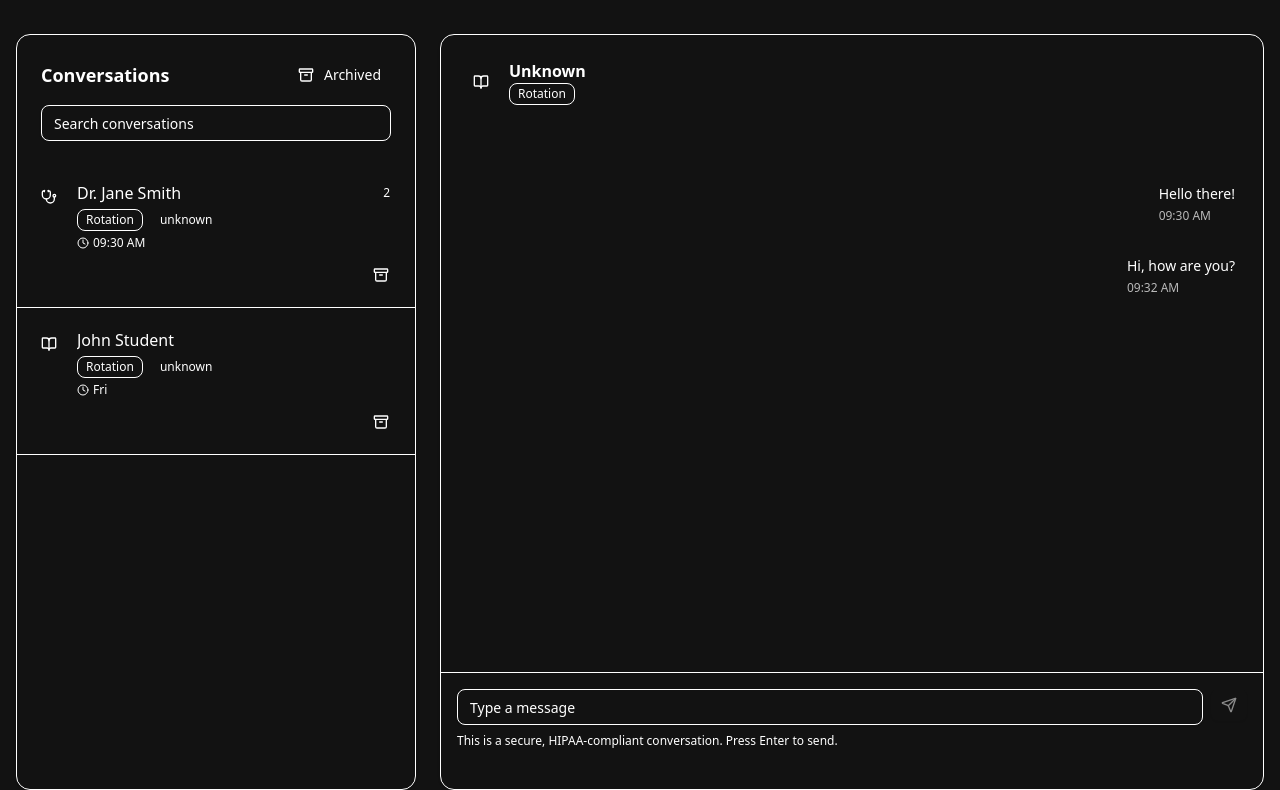
it: MessagesPage › filters conversations by search term
The width and height of the screenshot is (1280, 790).
(page scrolled)
Type "Jane" into the field with placeholder "Search conversations" at [216, 123], box [41,105,391,141]
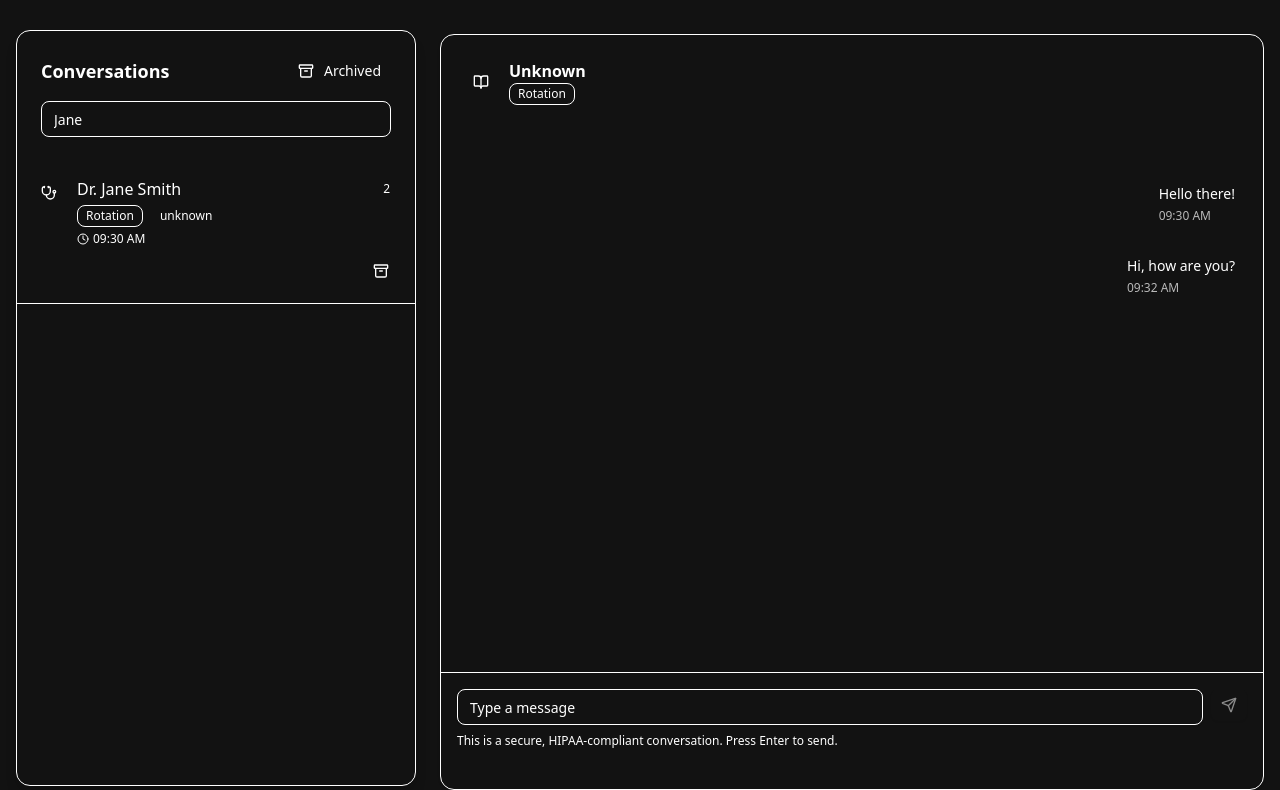
Expected: the text "Dr. Jane Smith" is shown, [77,177,181,201]
Now the text "John Student" is gone
